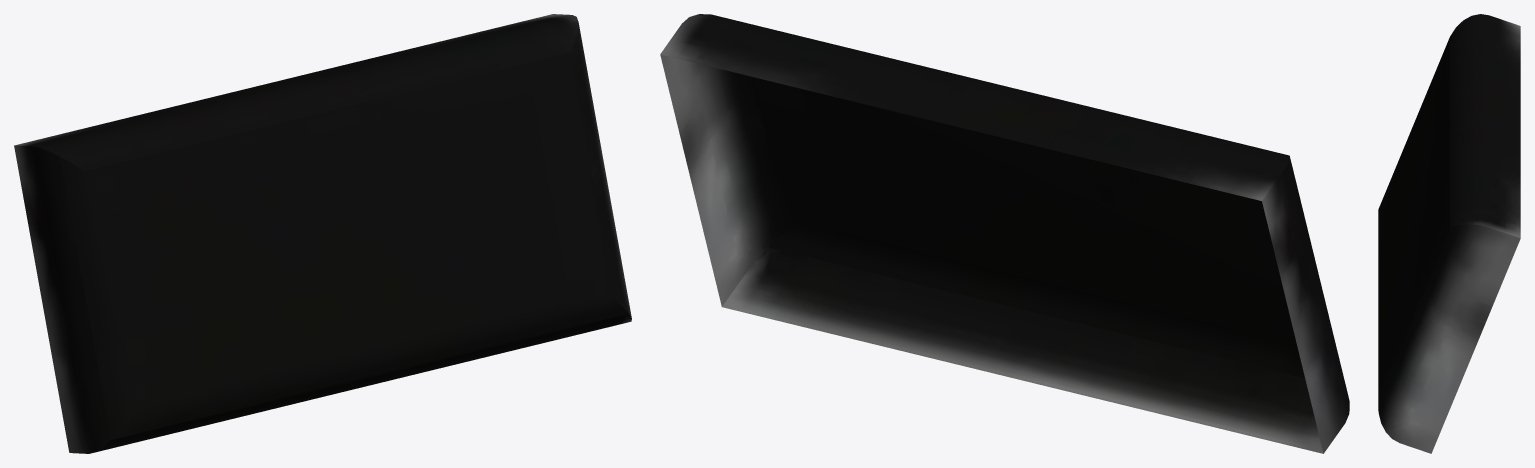
File: link_1__button-2.glb
3 renders of one model, left to right at view 1: azimuth 30°, elevation 25°; view 2: azimuth 150°, elevation 25°; view 3: azimuth 270°, elevation 25°, orthographic. The views are drawn at different scales.
Visible parts, largest first — view 1: geometry_0; view 2: geometry_0; view 3: geometry_0.
Part boxes in pixels (box(x1,y1,x2,y2)): geometry_0: box(14, 14, 631, 453); geometry_0: box(660, 14, 1349, 453); geometry_0: box(1378, 14, 1520, 453).
Bounding box in the file's own units: 0.0354 × 0.0177 × 0.01.
1 material, 1 textured.
